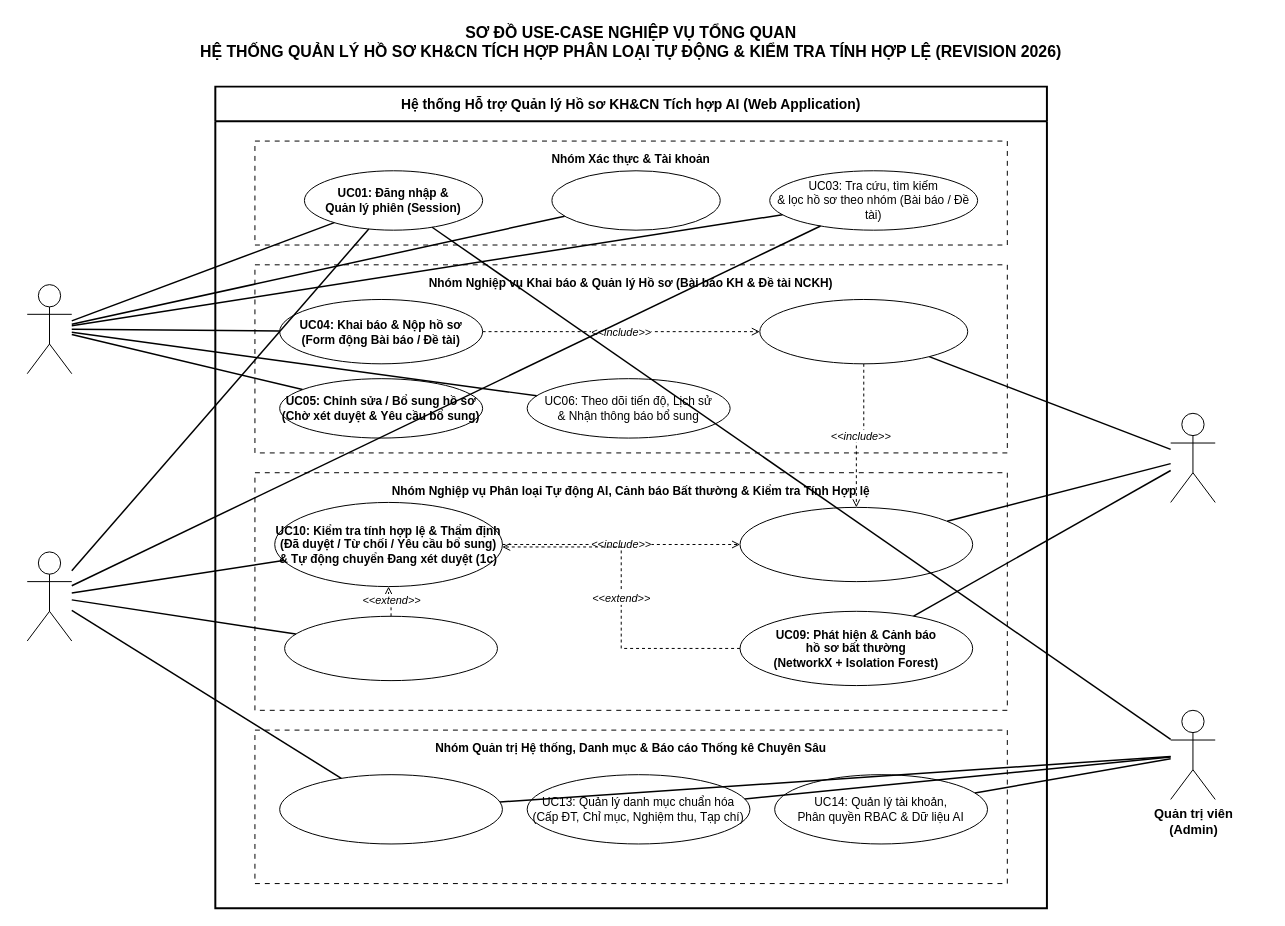
The diagram is 1285 pixels wide and 926 high, and some of its shapes have lost their labels. The shapes that lost their labels are listed below. From the top down, each one's centre as x and y in pixels, then its label:
At point (635, 200): "UC02: Đổi mật khẩu an toàn (Hash)".
At point (49, 329): "Tác giả / Giảng viên".
At point (863, 331): "UC07: Trích xuất đặc trưng văn bản & Tiền xử lý tiếng Việt (PyVi)".
At point (1192, 457): "Mô-đun Hệ thống AI (NLP & Anomaly Engine)".
At point (856, 544): "UC08: Dự đoán nhãn lĩnh vực tự động & Độ tin cậy (%) (TF-IDF+SVM / PhoBERT)".
At point (49, 596): "Cán bộ thẩm định".
At point (390, 648): "UC11: Xác nhận / Điều chỉnh nhãn AI (Feedback Loop)".
At point (390, 809): "UC12: Xem Dashboard thống kê riêng biệt (Bài báo & Đề tài) & Xuất báo cáo".
